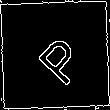P_NW: (24, 24, 86, 86)
